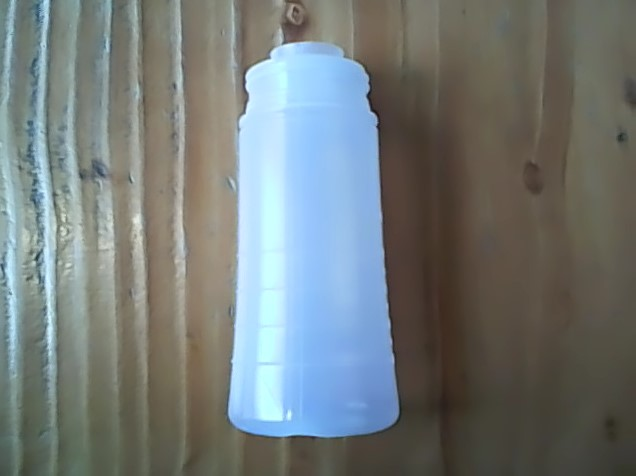Plastic: (226, 41, 405, 442)
